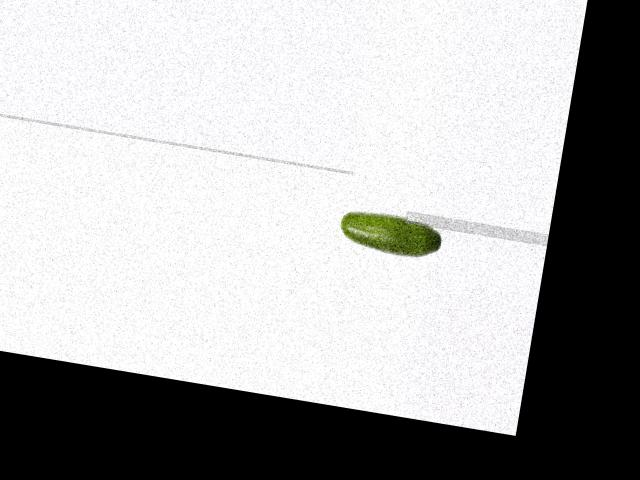cucumber: (336, 206, 446, 262)
